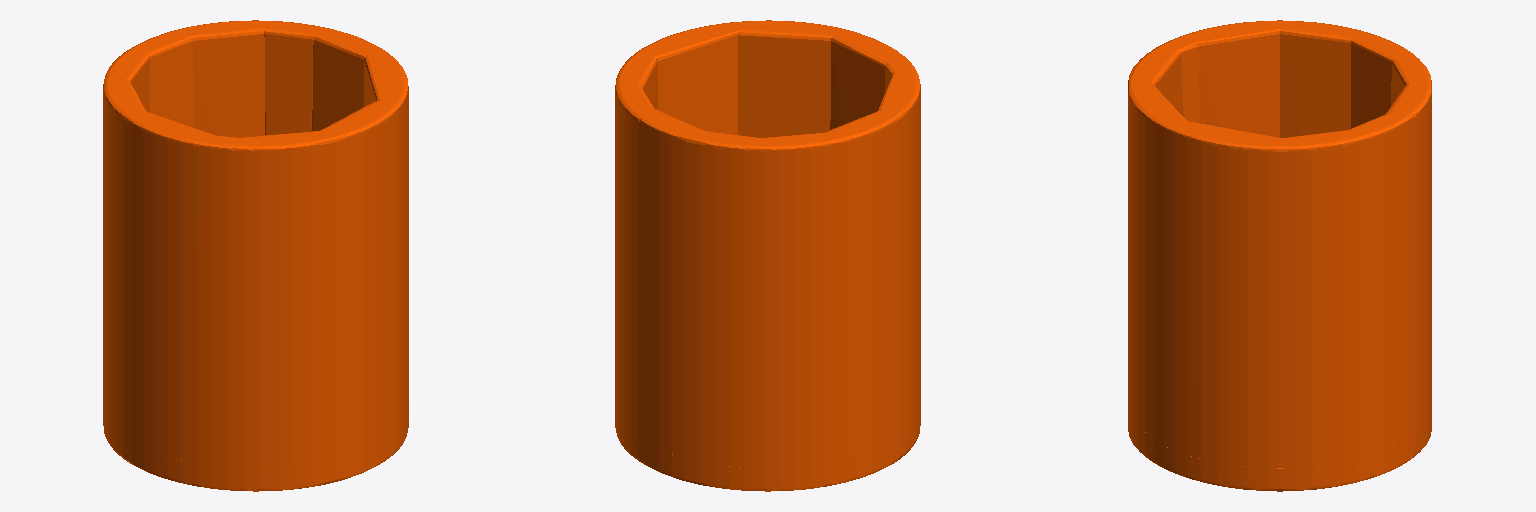
URDF robot description (Cup):
<?xml version="1.0"?>
<!-- 3D-printed cup captured with the OptiTrack+AVP rig. The mesh is the COACD convex
     decomposition (13 submeshes); the env loads it with convex_decomposition_from_submeshes
     enabled, so each submesh becomes its own convex collision shape and the cup keeps its
     concavity. Mass comes from asset_options.density (200 kg/m^3, low-fill 3D print). -->
<robot name="Cup">
  <material name="obj_color">
      <color rgba="1.0 0.423529411765 0.0392156862745 1.0"/>
  </material>
  <link name="base">
    <visual>
      <origin xyz="0.0 0.0 0.0"/>
      <geometry>
        <mesh filename="Cup.obj" scale="1 1 1"/>
      </geometry>
      <material name="obj_color"/>
    </visual>
    <collision>
      <origin xyz="0.0 0.0 0.0"/>
      <geometry>
        <mesh filename="Cup.obj" scale="1 1 1"/>
      </geometry>
    </collision>
  </link>
</robot>

--- What the picture shows (computed from the rendered views, not written in the file) ---
Views: 3 orthographic renders of the robot side by side, from view 1: azimuth 30°, elevation 25°; view 2: azimuth 150°, elevation 25°; view 3: azimuth 270°, elevation 25°.
Robot: Cup — 1 links, 0 joints (none); root link base; default pose: every joint at zero.
Visible links, largest first — view 1: base; view 2: base; view 3: base.
Link boxes in pixels (x1,y1,x2,y2): base: (103,20,408,491); base: (615,20,920,491); base: (1128,20,1431,491).
Bounding box of the posed robot: 0.0405 × 0.0405 × 0.0505 m (x, y, z).
1 mesh visuals loaded from 1 distinct referenced files (1 OBJ).
